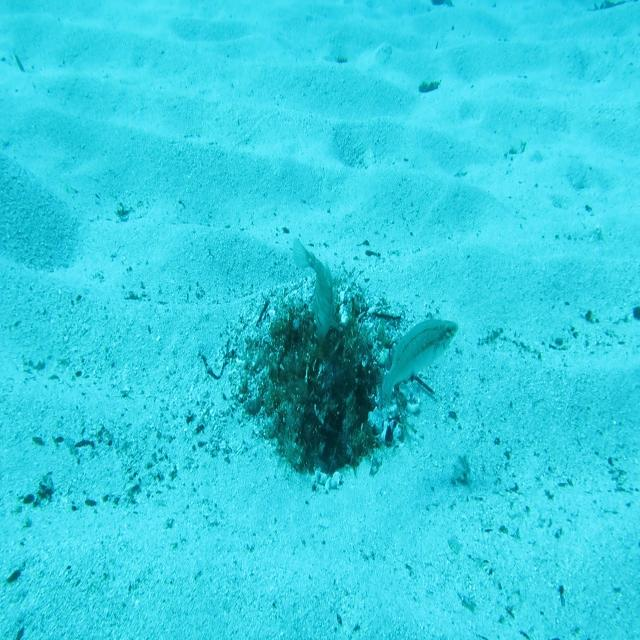NIP_CORE: (290, 233, 338, 347)
core_nest: (297, 321, 341, 374)
female: (374, 315, 460, 426)
nest: (208, 254, 423, 508)
vegetation: (416, 77, 442, 95)
